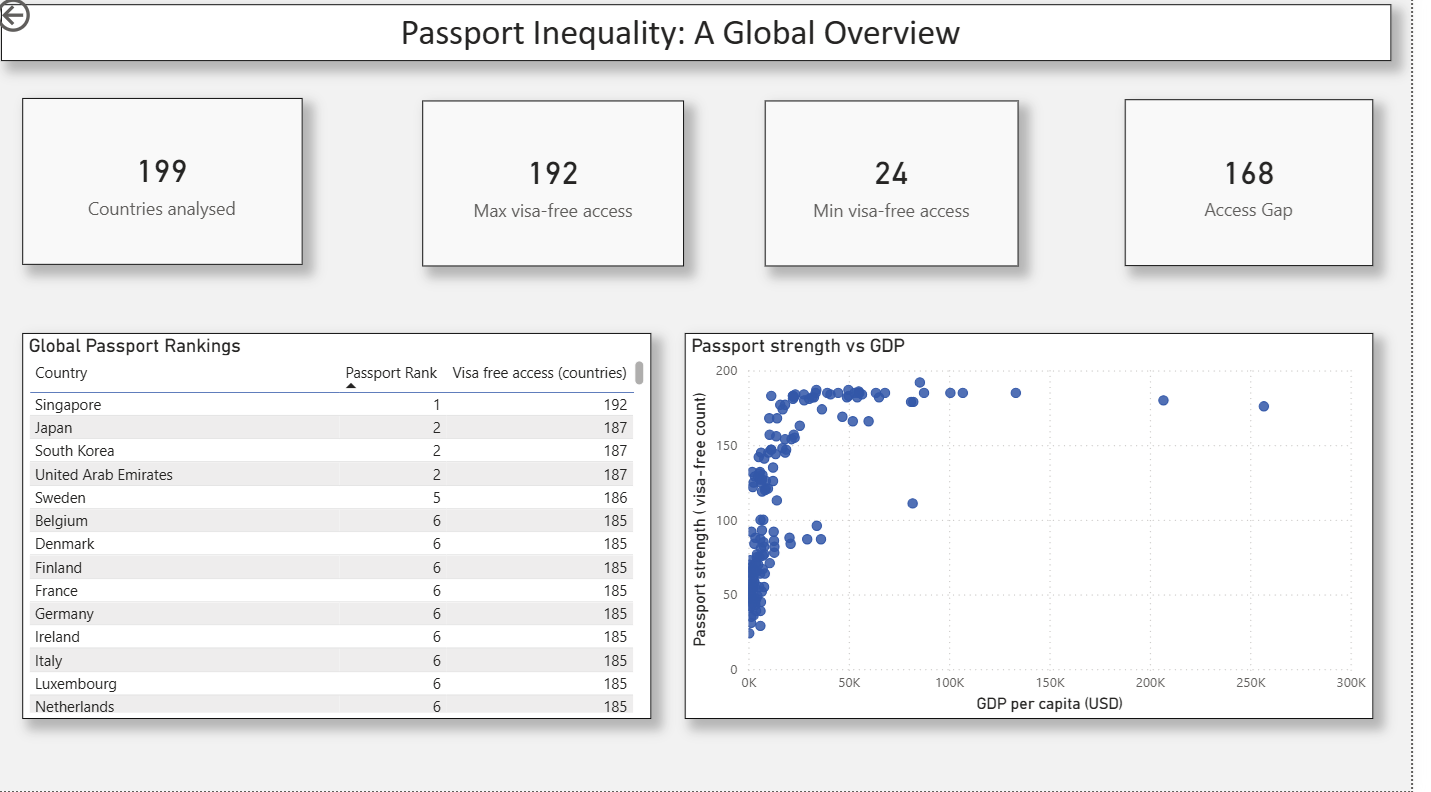

The page's visual inventory and layout, read from the dashboard file:
{"tool":"powerbi","page":{"name":"Global Overview","canvas":[1280,720],"ordinal":0},"visuals":[{"type":"textbox","box":[9.3,10.5,1253.5,51.2],"z":0},{"type":"card","fields":{"Values":["Count(public dim_passport.country_name)"]},"box":[28.6,94.5,252.5,150.5],"z":1000},{"type":"card","fields":{"Values":["Max(public dim_passport.visa_free_count)"]},"box":[389.4,97,236.4,149.3],"z":2000},{"type":"card","fields":{"Values":["Min(public dim_passport.visa_free_count)"]},"box":[697.9,97,228.9,149.3],"z":3000},{"type":"card","fields":{"Values":["public dim_economy.Access Gap"]},"box":[1022.5,95.8,223.9,150.5],"z":4000},{"type":"tableEx","title":"Global Passport Rankings","fields":{"Values":["public dim_passport.country_name","public dim_passport.passport_rank","public dim_passport.visa_free_count"]},"box":[28.6,306,567.2,348.3],"z":5000},{"type":"actionButton","box":[0,0,100,40],"z":6000},{"type":"scatterChart","title":"Passport strength vs GDP","fields":{"X":["Sum(public dim_economy.gdp_per_capita_usd)"],"Y":["public dim_passport.visa_free_count"],"Category":["public dim_passport.country_name"]},"box":[625.7,306,620.7,348.3],"z":7000}]}

Visuals, with their boxes in screenshot pixels (x1, y1, x2, y2), scaled from the page's 1280x720 canvas onto the 1431x792 screenshot:
textbox: bbox=[10, 12, 1412, 68]
card - Count(public dim_passport.country_name): bbox=[32, 104, 314, 270]
card - Max(public dim_passport.visa_free_count): bbox=[435, 107, 700, 271]
card - Min(public dim_passport.visa_free_count): bbox=[780, 107, 1036, 271]
card - public dim_economy.Access Gap: bbox=[1143, 105, 1393, 271]
"Global Passport Rankings" tableEx: bbox=[32, 337, 666, 720]
actionButton: bbox=[0, 0, 112, 44]
"Passport strength vs GDP" scatterChart: bbox=[700, 337, 1393, 720]
